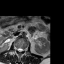CCS_stenosis: (19, 45, 21, 54)
LFS_normal: (23, 46, 25, 53)
LLS_normal: (21, 46, 23, 53)
RFS_normal: (15, 45, 17, 52)
RLS_normal: (17, 46, 19, 53)
